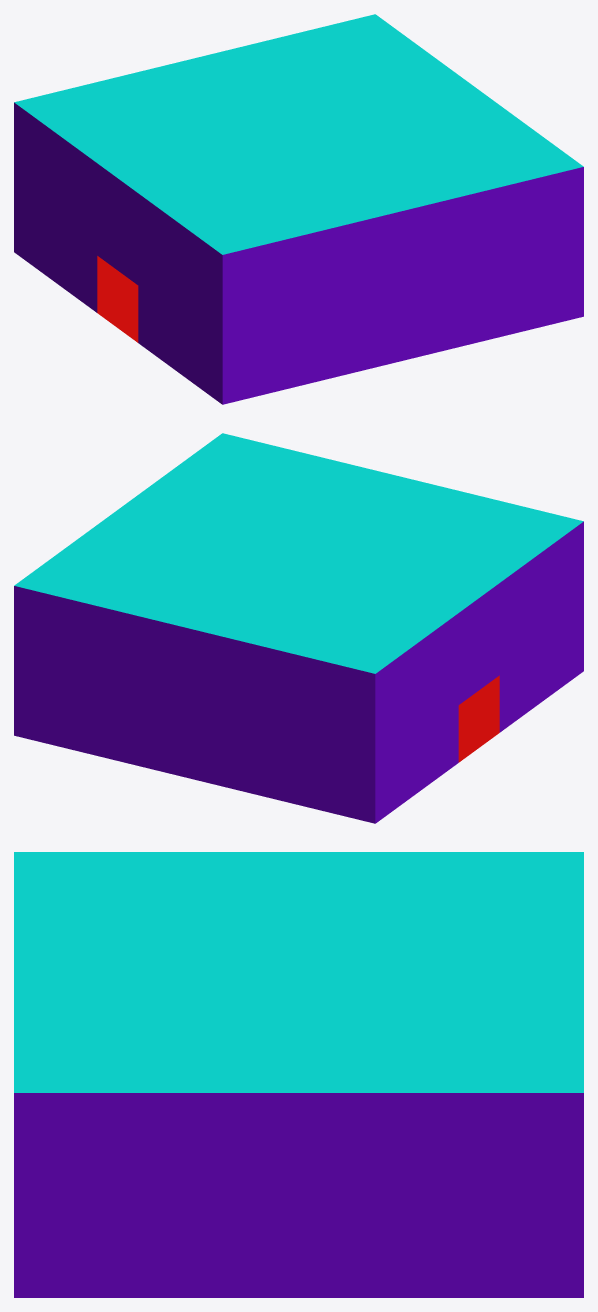
3 views of the same model, one above another, from view 1: azimuth 30°, elevation 25°; view 2: azimuth 150°, elevation 25°; view 3: azimuth 270°, elevation 25° (orthographic). The views are drawn at different scales.
Parts seen in each view (by area): view 1: Cube.036; view 2: Cube.036; view 3: Cube.036.
Part boxes in pixels (bbox=[...]): Cube.036: bbox=[14, 14, 583, 404]; Cube.036: bbox=[14, 433, 583, 823]; Cube.036: bbox=[14, 852, 583, 1297].
Bounding box in the file's own units: 4364 × 1729 × 4361.
